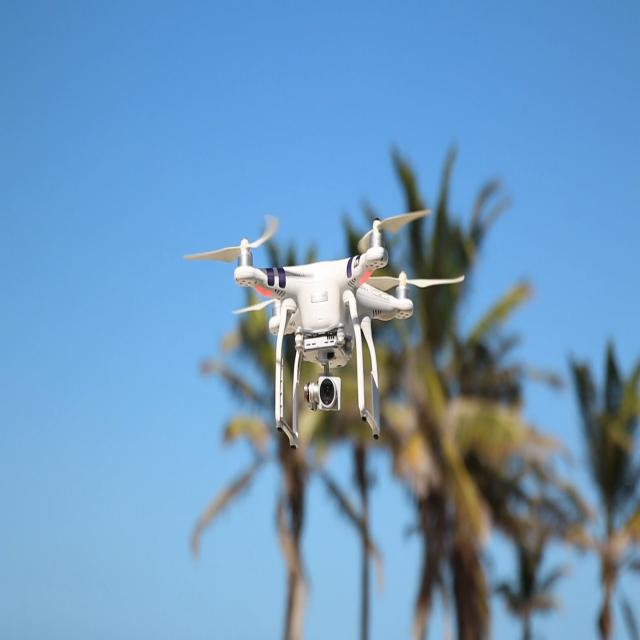Drone: (177, 196, 467, 454)
